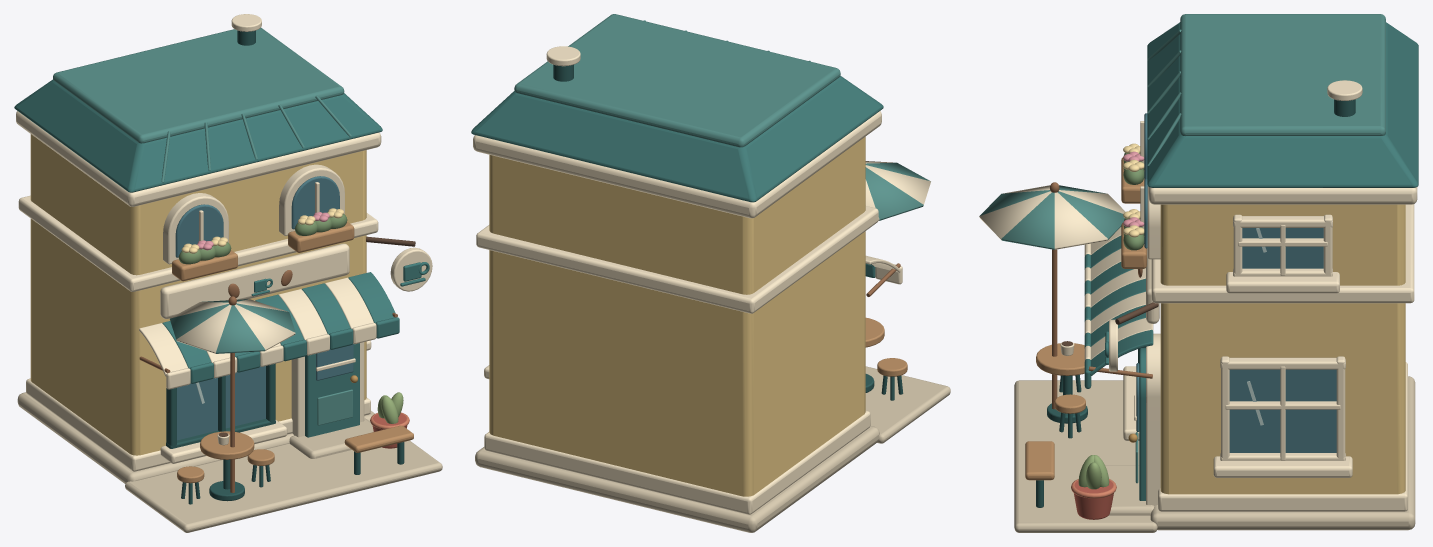
The model's file is cafe_level_3_before.glb.
The picture shows the model from 3 angles, left to right: view 1: azimuth 30°, elevation 25°; view 2: azimuth 150°, elevation 25°; view 3: azimuth 270°, elevation 25°; orthographic projection. The views are drawn at different scales.
Parts seen in each view (by area): view 1: Wall • butter plaster.002, Roof • rounded crown.002, Roof • soft hipped shell.002, Terrace • patio base, Fascia • plain cream band.001, Roof • cream cornice.002, Terrace • scalloped umbrella, Window • blue glazing.004, Upper • belt cornice, Foundation • stone plinth.002, Door • teal panel.002, Wall • cream skirting.002 (+26 smaller); view 2: Wall • butter plaster.002, Roof • rounded crown.002, Roof • soft hipped shell.002, Foundation • stone plinth.002, Upper • belt cornice, Wall • cream skirting.002, Roof • cream cornice.002, Terrace • patio base, Terrace • scalloped umbrella, Roof • vent cap; view 3: Wall • butter plaster.002, Roof • rounded crown.002, Roof • soft hipped shell.002, Terrace • patio base, Window • blue glazing.005, Terrace • scalloped umbrella, Foundation • stone plinth.002, Upper • belt cornice, Wall • cream skirting.002, Roof • cream cornice.002, Window • blue glazing.006, Window • deep sill.005 (+29 smaller).
Boxes of the visible parts, left/top/right/bottom form: Wall • butter plaster.002: left=30, top=134, right=366, bottom=455; Roof • rounded crown.002: left=53, top=28, right=344, bottom=143; Roof • soft hipped shell.002: left=14, top=79, right=382, bottom=192; Terrace • patio base: left=125, top=440, right=442, bottom=532; Fascia • plain cream band.001: left=160, top=243, right=349, bottom=318; Roof • cream cornice.002: left=16, top=111, right=381, bottom=206; Terrace • scalloped umbrella: left=170, top=299, right=295, bottom=353; Window • blue glazing.004: left=177, top=366, right=265, bottom=440; Upper • belt cornice: left=18, top=195, right=378, bottom=291; Foundation • stone plinth.002: left=17, top=392, right=374, bottom=483; Door • teal panel.002: left=305, top=343, right=359, bottom=437; Wall • cream skirting.002: left=26, top=378, right=370, bottom=471; Wall • butter plaster.002: left=489, top=136, right=865, bottom=496; Roof • rounded crown.002: left=514, top=14, right=840, bottom=147; Roof • soft hipped shell.002: left=471, top=76, right=883, bottom=202; Foundation • stone plinth.002: left=475, top=425, right=879, bottom=532; Upper • belt cornice: left=476, top=206, right=878, bottom=313; Wall • cream skirting.002: left=484, top=410, right=870, bottom=514; Roof • cream cornice.002: left=473, top=111, right=881, bottom=218; Terrace • patio base: left=865, top=366, right=950, bottom=443; Terrace • scalloped umbrella: left=865, top=161, right=930, bottom=220; Roof • vent cap: left=546, top=46, right=580, bottom=66; Wall • butter plaster.002: left=1160, top=204, right=1405, bottom=494; Roof • rounded crown.002: left=1180, top=14, right=1385, bottom=135; Roof • soft hipped shell.002: left=1147, top=22, right=1418, bottom=187; Terrace • patio base: left=1014, top=380, right=1157, bottom=532; Window • blue glazing.005: left=1229, top=369, right=1336, bottom=452; Terrace • scalloped umbrella: left=979, top=185, right=1125, bottom=249; Foundation • stone plinth.002: left=1150, top=376, right=1415, bottom=530; Upper • belt cornice: left=1151, top=204, right=1414, bottom=303; Wall • cream skirting.002: left=1158, top=362, right=1407, bottom=511; Roof • cream cornice.002: left=1148, top=187, right=1417, bottom=204; Window • blue glazing.006: left=1242, top=228, right=1323, bottom=268; Window • deep sill.005: left=1213, top=456, right=1352, bottom=477.
Bounding box in the file's own units: 3.93 × 4.69 × 4.48.
